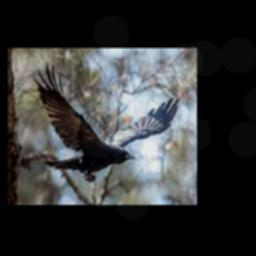Crow: (33, 61, 180, 182)
